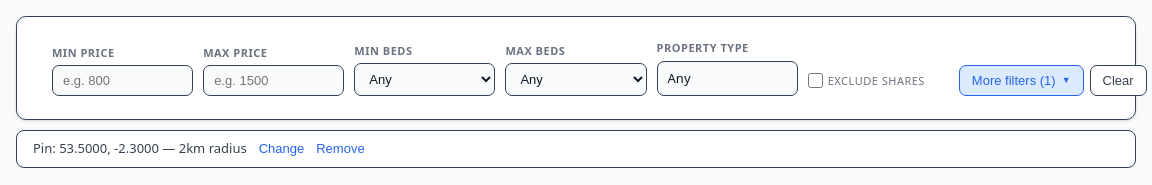
Test: FilterToolbar — pin active bar › Remove button on pin bar clears pin
Click the button "Remove".
click(340, 149)  # box [316, 141, 365, 156]
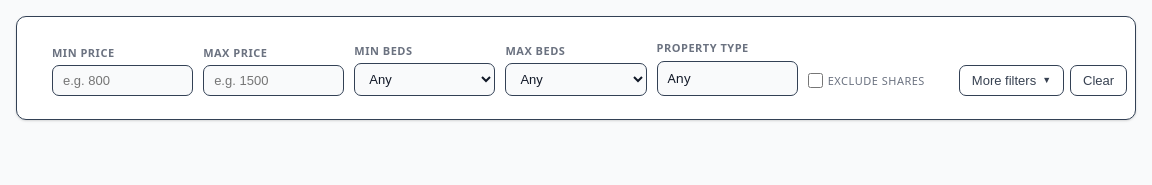
Expected: the text "Pin: 53.5000" is gone
